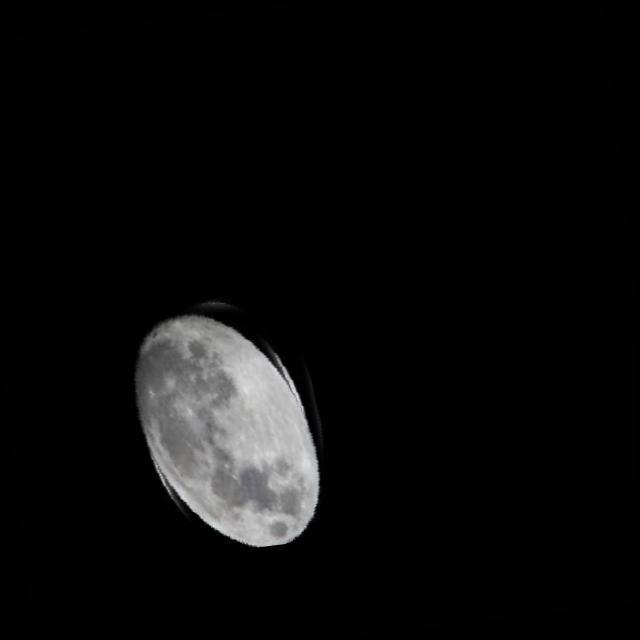moon: (122, 278, 348, 560)
